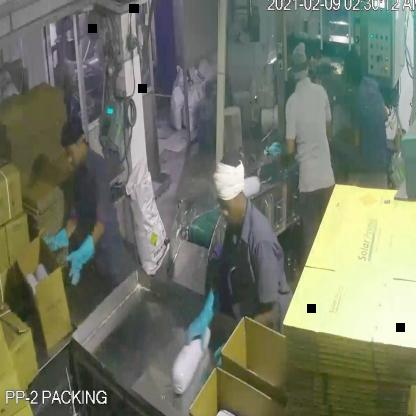glove: (179, 273, 221, 357), (62, 230, 100, 286), (39, 222, 73, 256)
